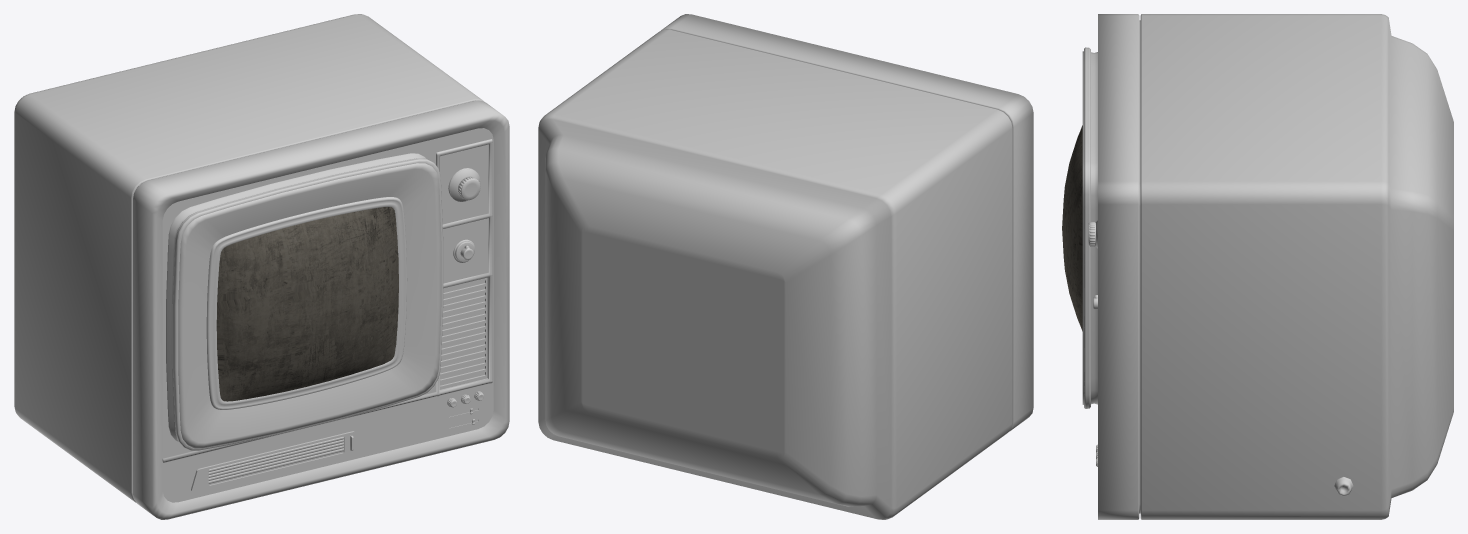
The picture shows the model from 3 angles, left to right: view 1: azimuth 30°, elevation 25°; view 2: azimuth 150°, elevation 25°; view 3: azimuth 270°, elevation 25°; orthographic projection. The views are drawn at different scales.
Parts seen in each view (by area): view 1: TV; view 2: TV; view 3: TV.
Boxes of the visible parts, <box> form: TV: <box>14,14,509,519</box>; TV: <box>538,14,1033,519</box>; TV: <box>1062,14,1453,519</box>.
Size of the model in its own units: 408 by 345 by 364.
